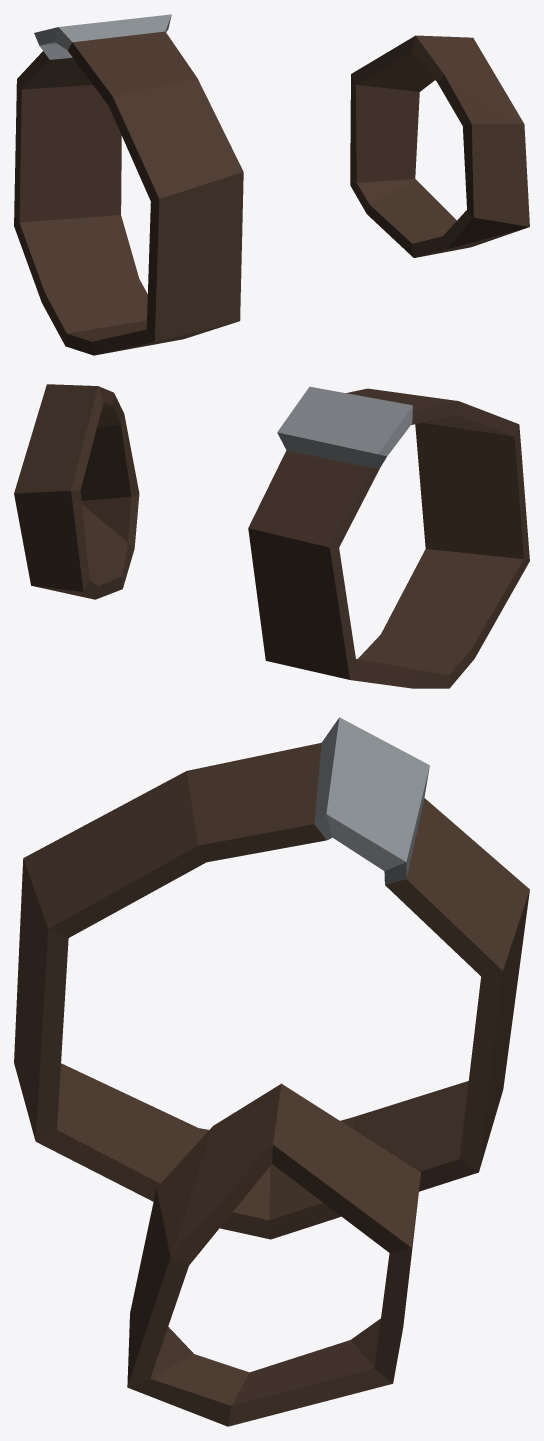
File: Chr_ArmUpperLeft_Female_16_Drop.fbx
3 renders of one model, top to bottom at view 1: azimuth 30°, elevation 25°; view 2: azimuth 150°, elevation 25°; view 3: azimuth 270°, elevation 25°, orthographic. The views are drawn at different scales.
Parts seen in each view (by area): view 1: Chr_ArmUpperLeft_Female_16_Static; view 2: Chr_ArmUpperLeft_Female_16_Static; view 3: Chr_ArmUpperLeft_Female_16_Static.
Part boxes in pixels (x1,y1,x2,y2): Chr_ArmUpperLeft_Female_16_Static: (14, 14, 529, 355); Chr_ArmUpperLeft_Female_16_Static: (14, 384, 529, 688); Chr_ArmUpperLeft_Female_16_Static: (14, 717, 529, 1426).
Bounding box in the file's own units: 21.26 × 14.64 × 14.75.
